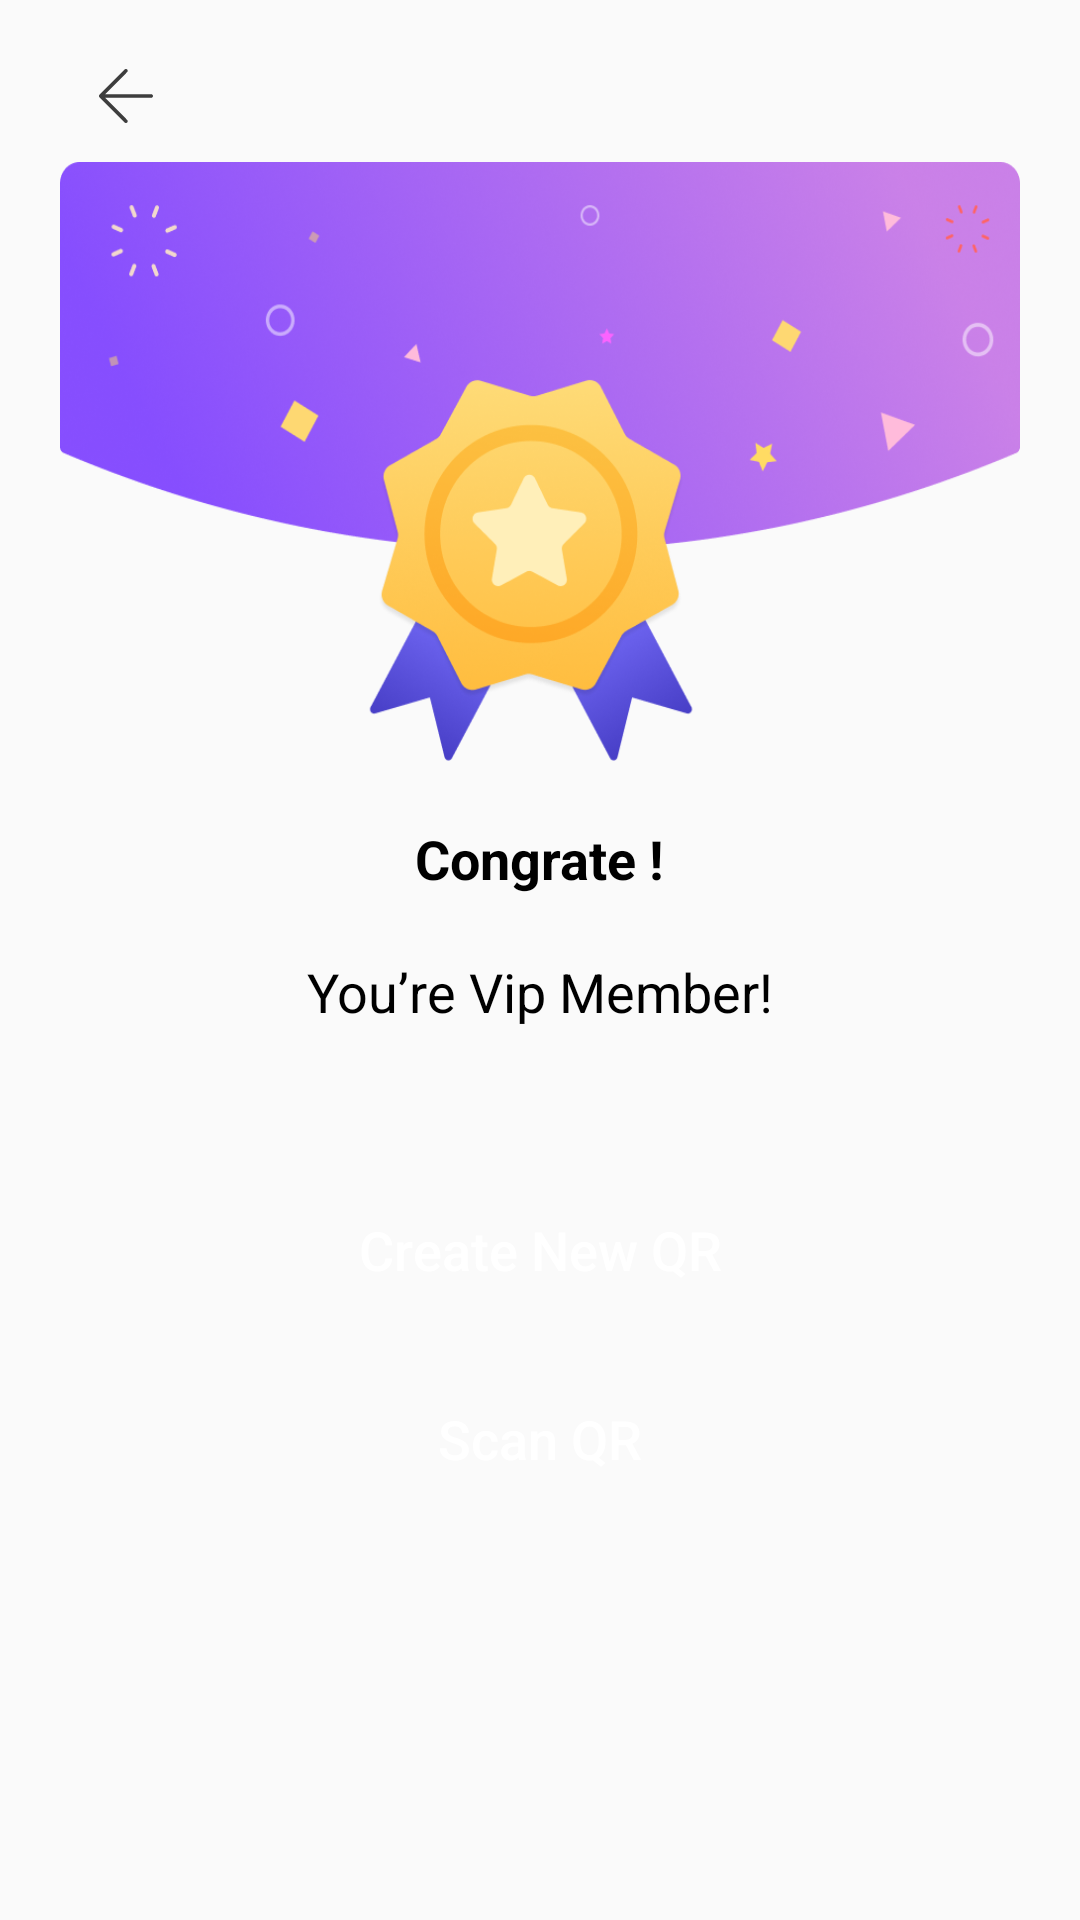

Named icons in this screenshot (1080 × 1920) and their centers, (x=x, y=y):
back: (x=126, y=96)
